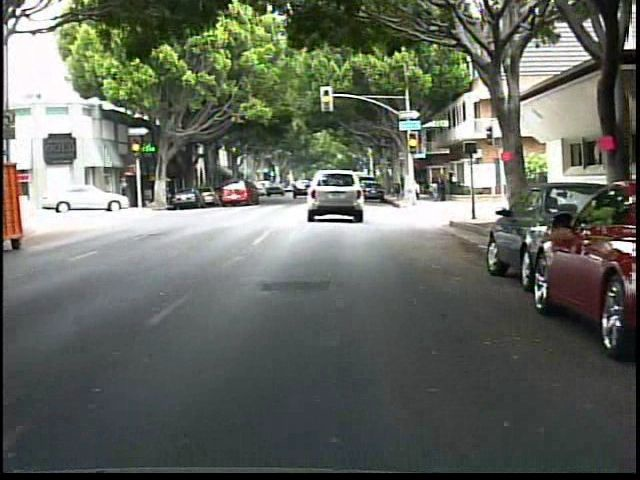person: (437, 168, 450, 204), (430, 171, 443, 202), (446, 165, 459, 196)
